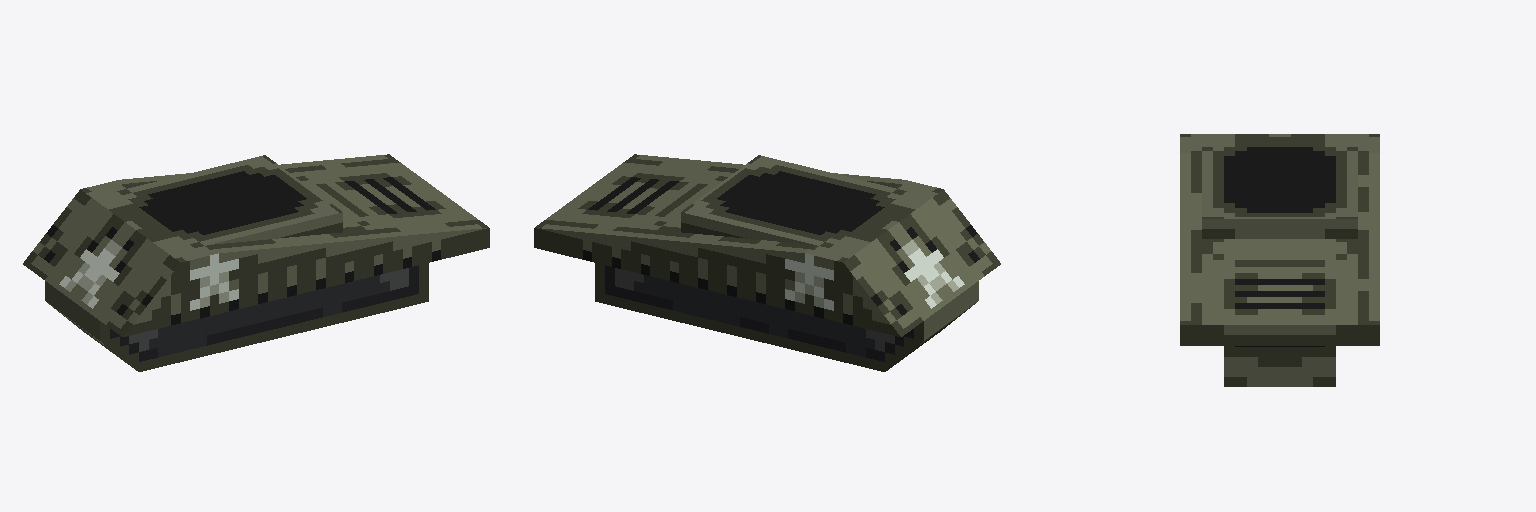
3 views of the same model, side by side, from view 1: azimuth 30°, elevation 25°; view 2: azimuth 150°, elevation 25°; view 3: azimuth 270°, elevation 25° (orthographic).
Parts seen in each view (by area): view 1: cuboid; view 2: cuboid; view 3: cuboid.
Part boxes in pixels (x1,y1,x2,y2): cuboid: (23,154,489,371); cuboid: (534,154,1000,371); cuboid: (1180,134,1379,386).
Bounding box in the file's own units: 1.19 × 0.375 × 0.5625.
1 materials, 1 textured.